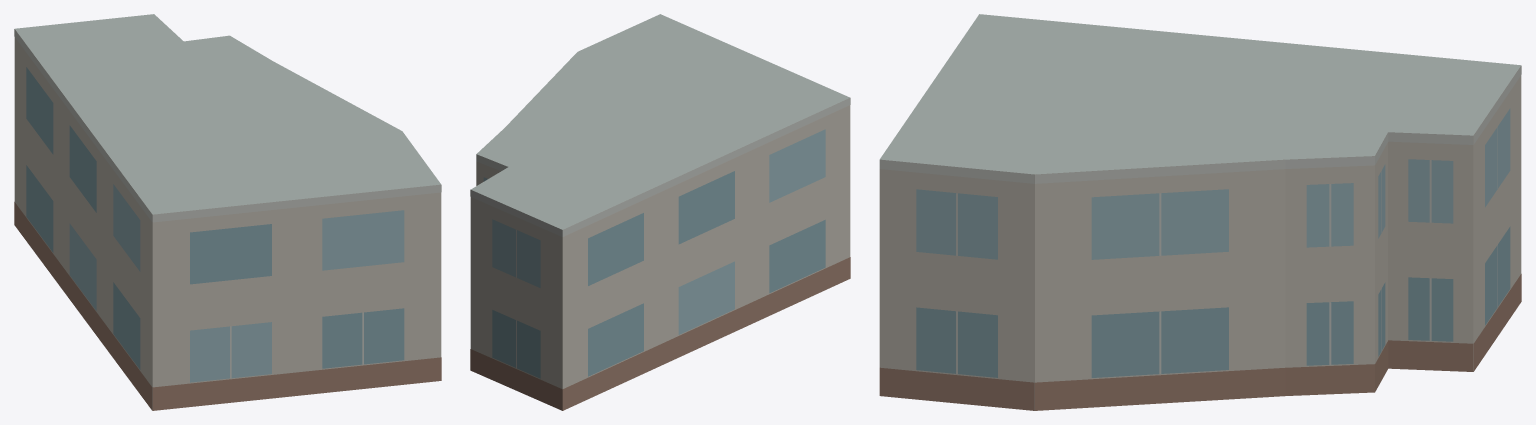
The model's file is survey-upis-32801107.glb.
The picture shows the model from 3 angles, left to right: view 1: azimuth 30°, elevation 25°; view 2: azimuth 150°, elevation 25°; view 3: azimuth 270°, elevation 25°; orthographic projection. The views are drawn at different scales.
Parts seen in each view (by area): view 1: survey-upis-32801107.tmp; view 2: survey-upis-32801107.tmp; view 3: survey-upis-32801107.tmp.
Boxes of the visible parts, x1=… form: survey-upis-32801107.tmp: x1=14, y1=14, x2=441, y2=410; survey-upis-32801107.tmp: x1=470, y1=14, x2=850, y2=410; survey-upis-32801107.tmp: x1=879, y1=14, x2=1521, y2=410.
Size of the model in its own units: 8.89 by 6.1 by 15.02.
